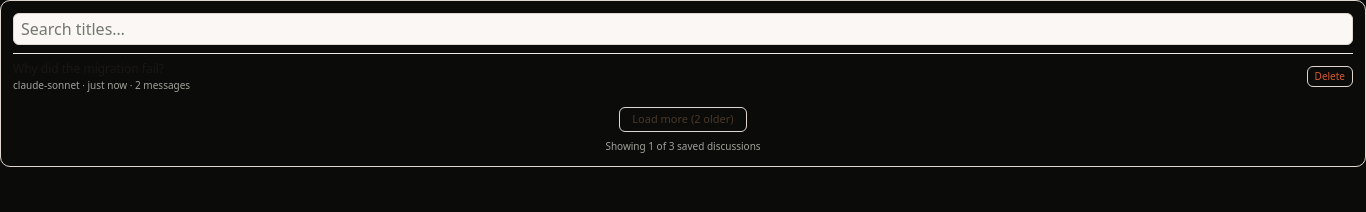
Test: DiscussHistoryDrawer › surfaces a Load more refusal verbatim and keeps the loaded rows
Click the button "Load more (2 older)" at (683, 119), box left=619, top=107, right=747, bottom=132
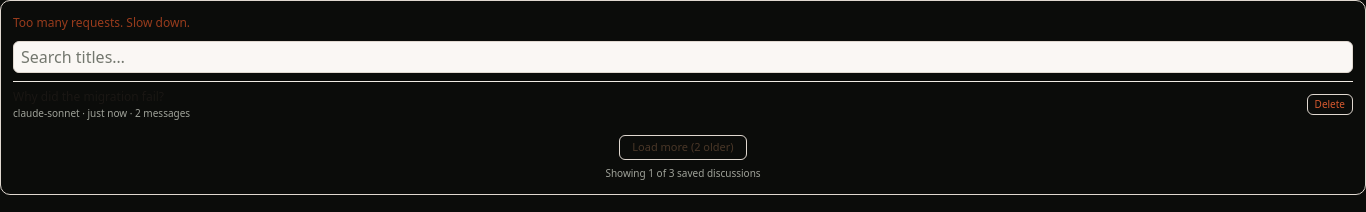
Expected: the button "Load more (2 older)" is shown, left=619, top=135, right=747, bottom=159
Now the message "Too many requests. Slow down." is shown, box left=13, top=14, right=190, bottom=31
